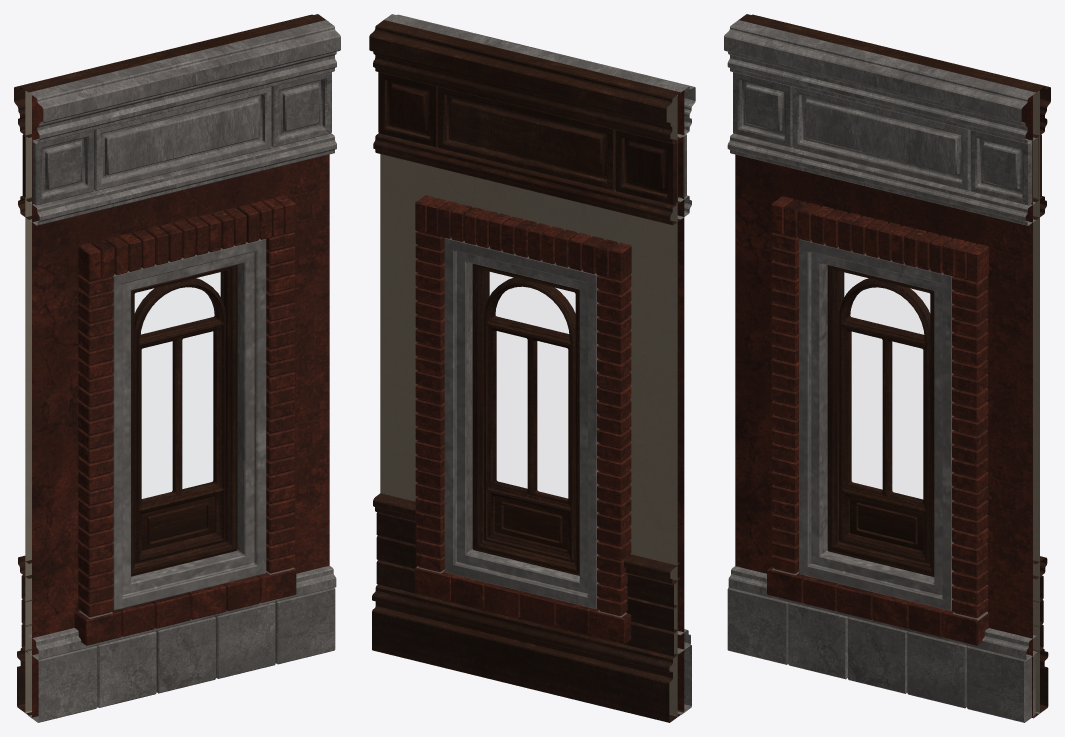
Rendered from SK6 WINDOW 1.fbx.
3 renders of one model, left to right at view 1: azimuth 30°, elevation 25°; view 2: azimuth 150°, elevation 25°; view 3: azimuth 330°, elevation 25°, orthographic.
Parts seen in each view (by area): view 1: SK6 WINDOW 1; view 2: SK6 WINDOW 1; view 3: SK6 WINDOW 1.
Part boxes in pixels (left/top/right/bottom): SK6 WINDOW 1: left=14, top=14, right=340, bottom=722; SK6 WINDOW 1: left=369, top=14, right=695, bottom=722; SK6 WINDOW 1: left=724, top=14, right=1050, bottom=722.
Bounding box in the file's own units: 200 × 400 × 34.17.
